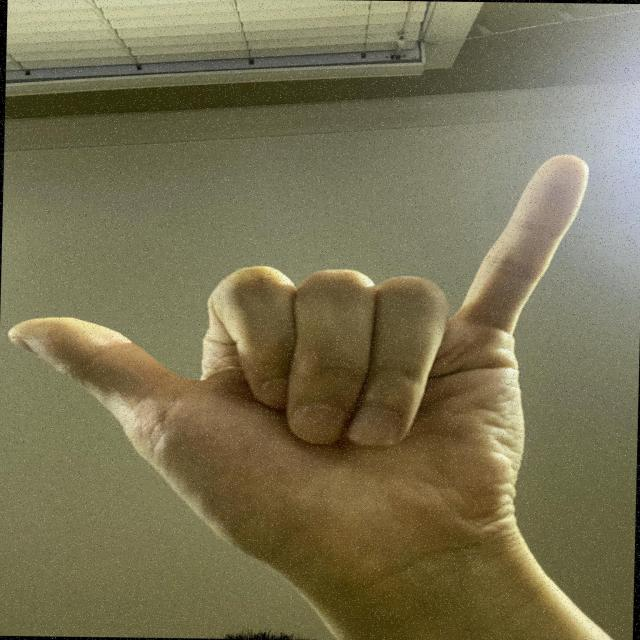Y: (0, 141, 601, 608)
